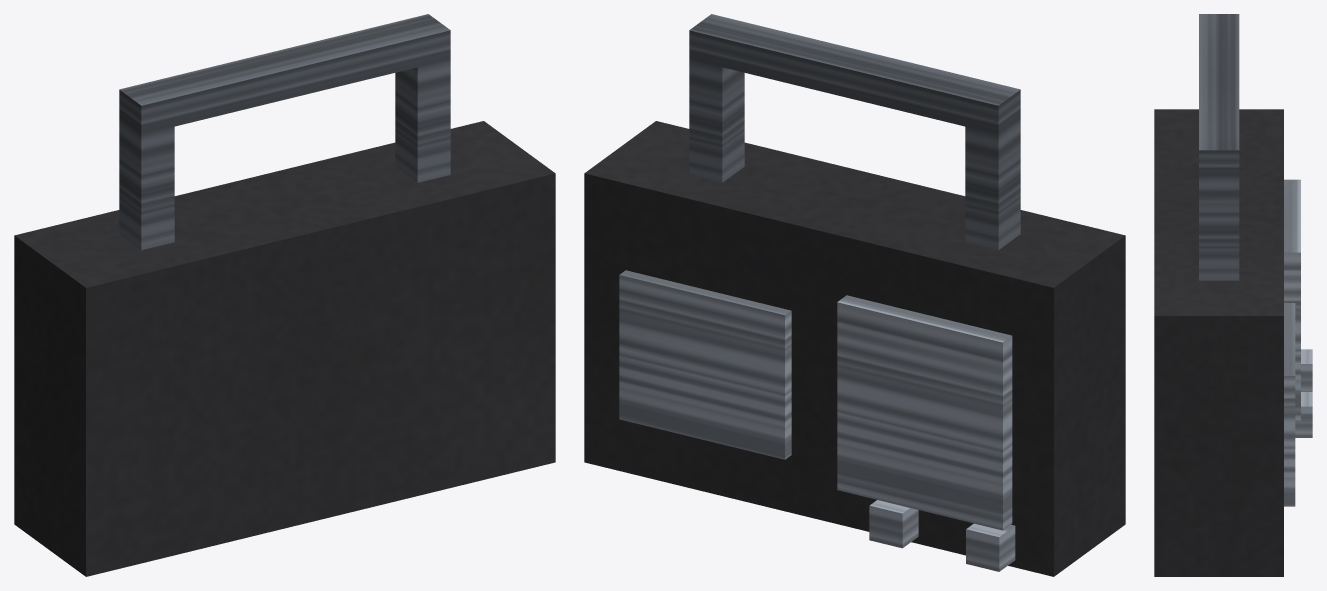
Rendered from cassette_recorder.fbx.
3 renders of one model, left to right at view 1: azimuth 30°, elevation 25°; view 2: azimuth 150°, elevation 25°; view 3: azimuth 270°, elevation 25°, orthographic. The views are drawn at different scales.
Visible parts, largest first — view 1: cassette_recorder; view 2: cassette_recorder; view 3: cassette_recorder.
Part boxes in pixels (<box>): cassette_recorder: <box>14,14,555,576</box>; cassette_recorder: <box>584,14,1125,576</box>; cassette_recorder: <box>1154,14,1312,576</box>.
Size of the model in its own units: 34 by 30 by 11.
